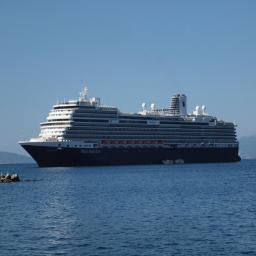cruises: (17, 85, 243, 170)
